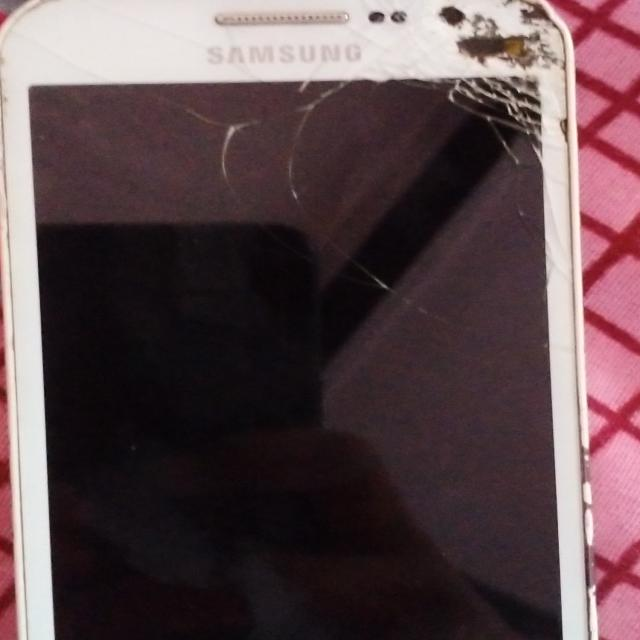Crack: (190, 4, 572, 295)
